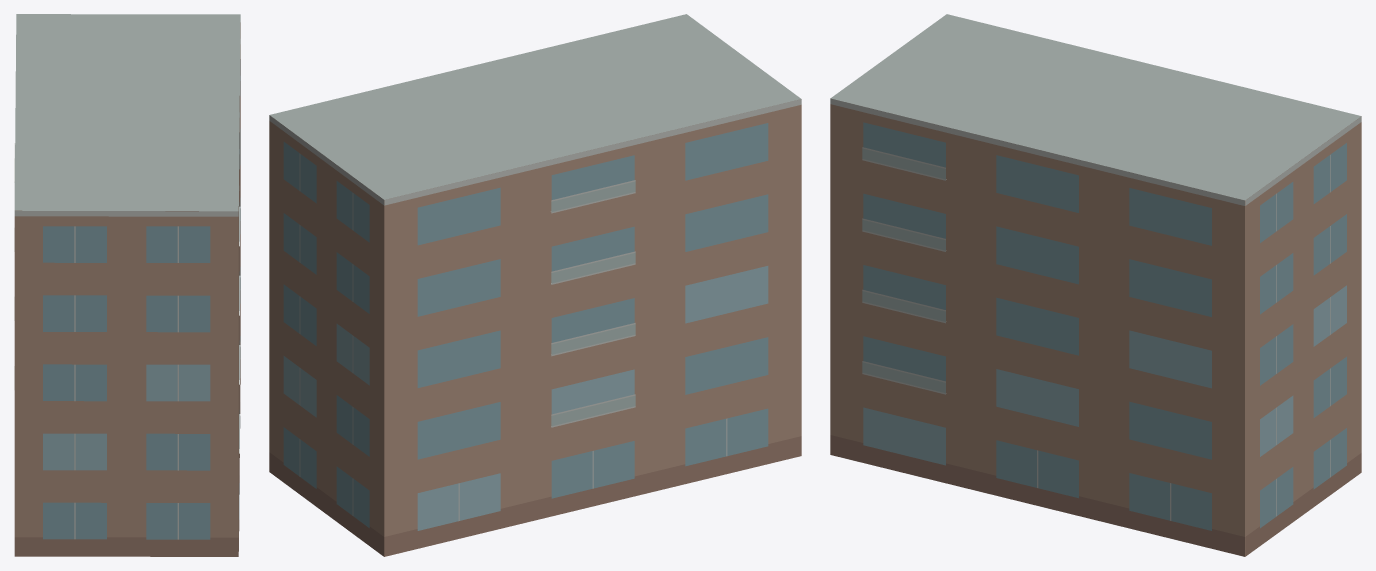
Rendered from survey-upis-33029133.glb.
The picture shows the model from 3 angles, left to right: view 1: azimuth 30°, elevation 25°; view 2: azimuth 150°, elevation 25°; view 3: azimuth 270°, elevation 25°; orthographic projection. The views are drawn at different scales.
Visible parts, largest first — view 1: survey-upis-33029133.tmp; view 2: survey-upis-33029133.tmp; view 3: survey-upis-33029133.tmp.
Boxes of the visible parts, x1,y1,x2,y2 form: survey-upis-33029133.tmp: (14, 14, 240, 556); survey-upis-33029133.tmp: (269, 14, 801, 556); survey-upis-33029133.tmp: (830, 14, 1361, 556).
Size of the model in its own units: 17.12 by 15.25 by 20.61.
